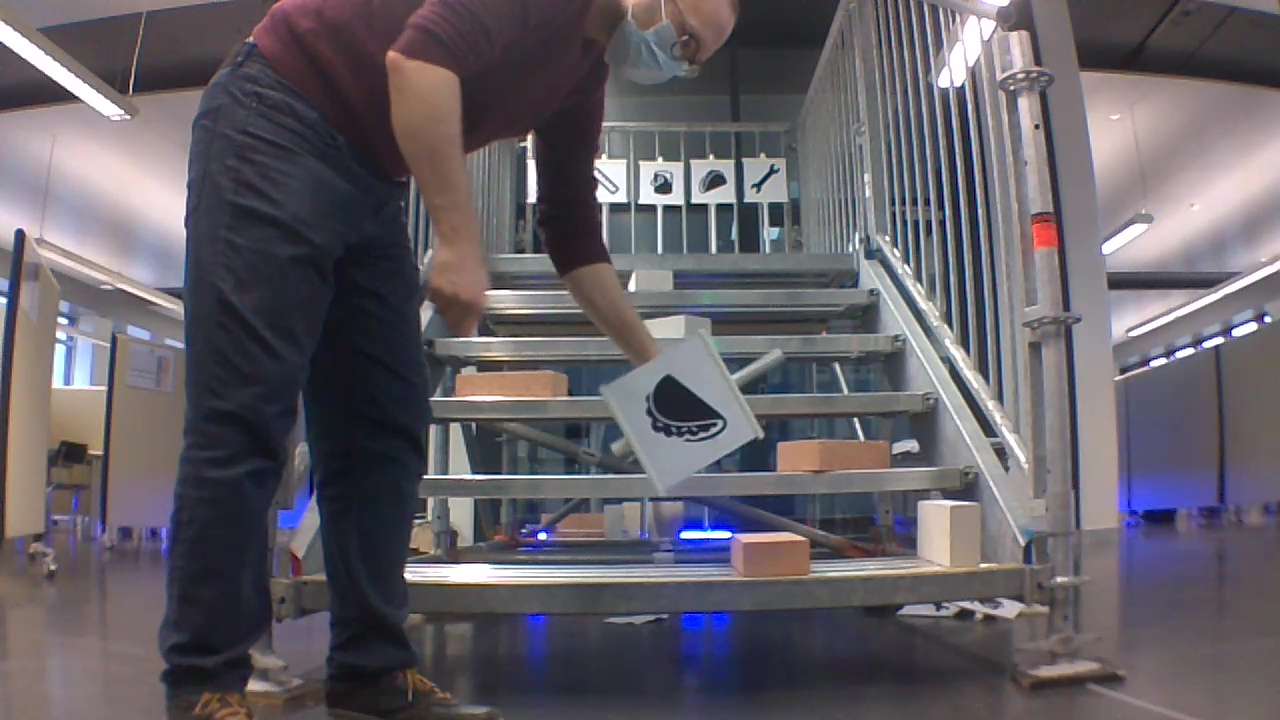brick: (916, 500, 980, 567), (729, 534, 807, 577), (778, 440, 887, 469), (456, 371, 564, 397), (649, 311, 711, 337), (628, 269, 673, 290)
bucket: (646, 168, 678, 196)
edge: (410, 569, 1032, 610)
ruler: (592, 163, 623, 196)
taco: (632, 371, 730, 447), (693, 164, 730, 197)
wrench: (746, 162, 783, 198)
